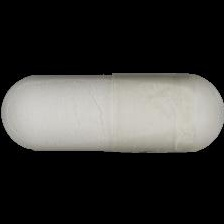16590-595: (0, 0, 224, 224)
